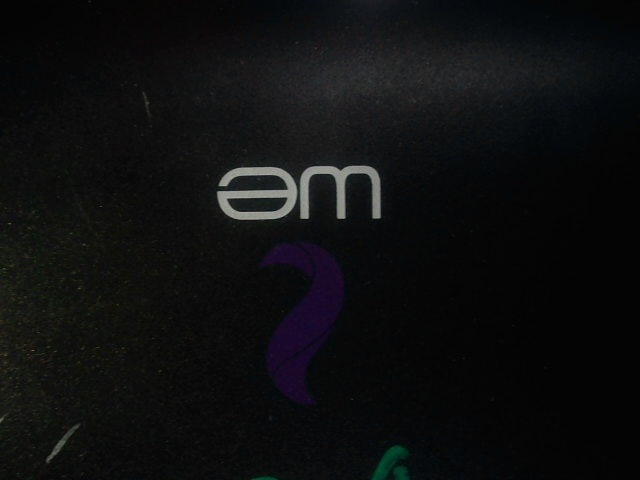AT_We: (204, 161, 396, 407)
